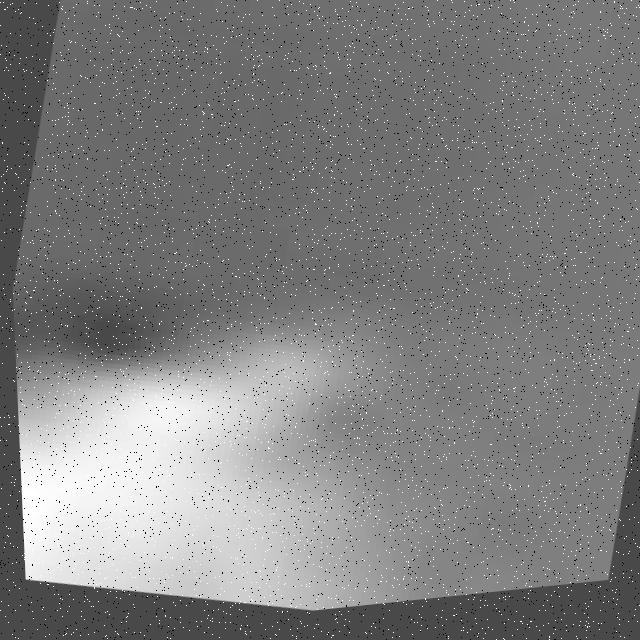person: (11, 250, 560, 640)
